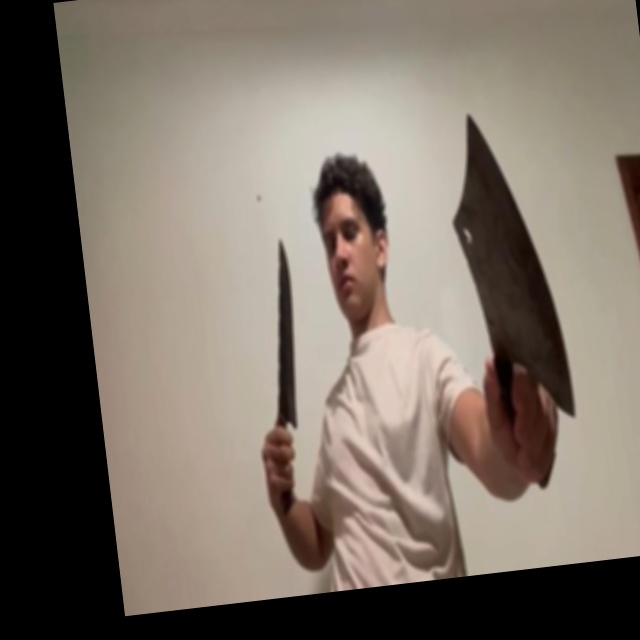Sharp-Object: (439, 106, 576, 427), (259, 237, 307, 429)
